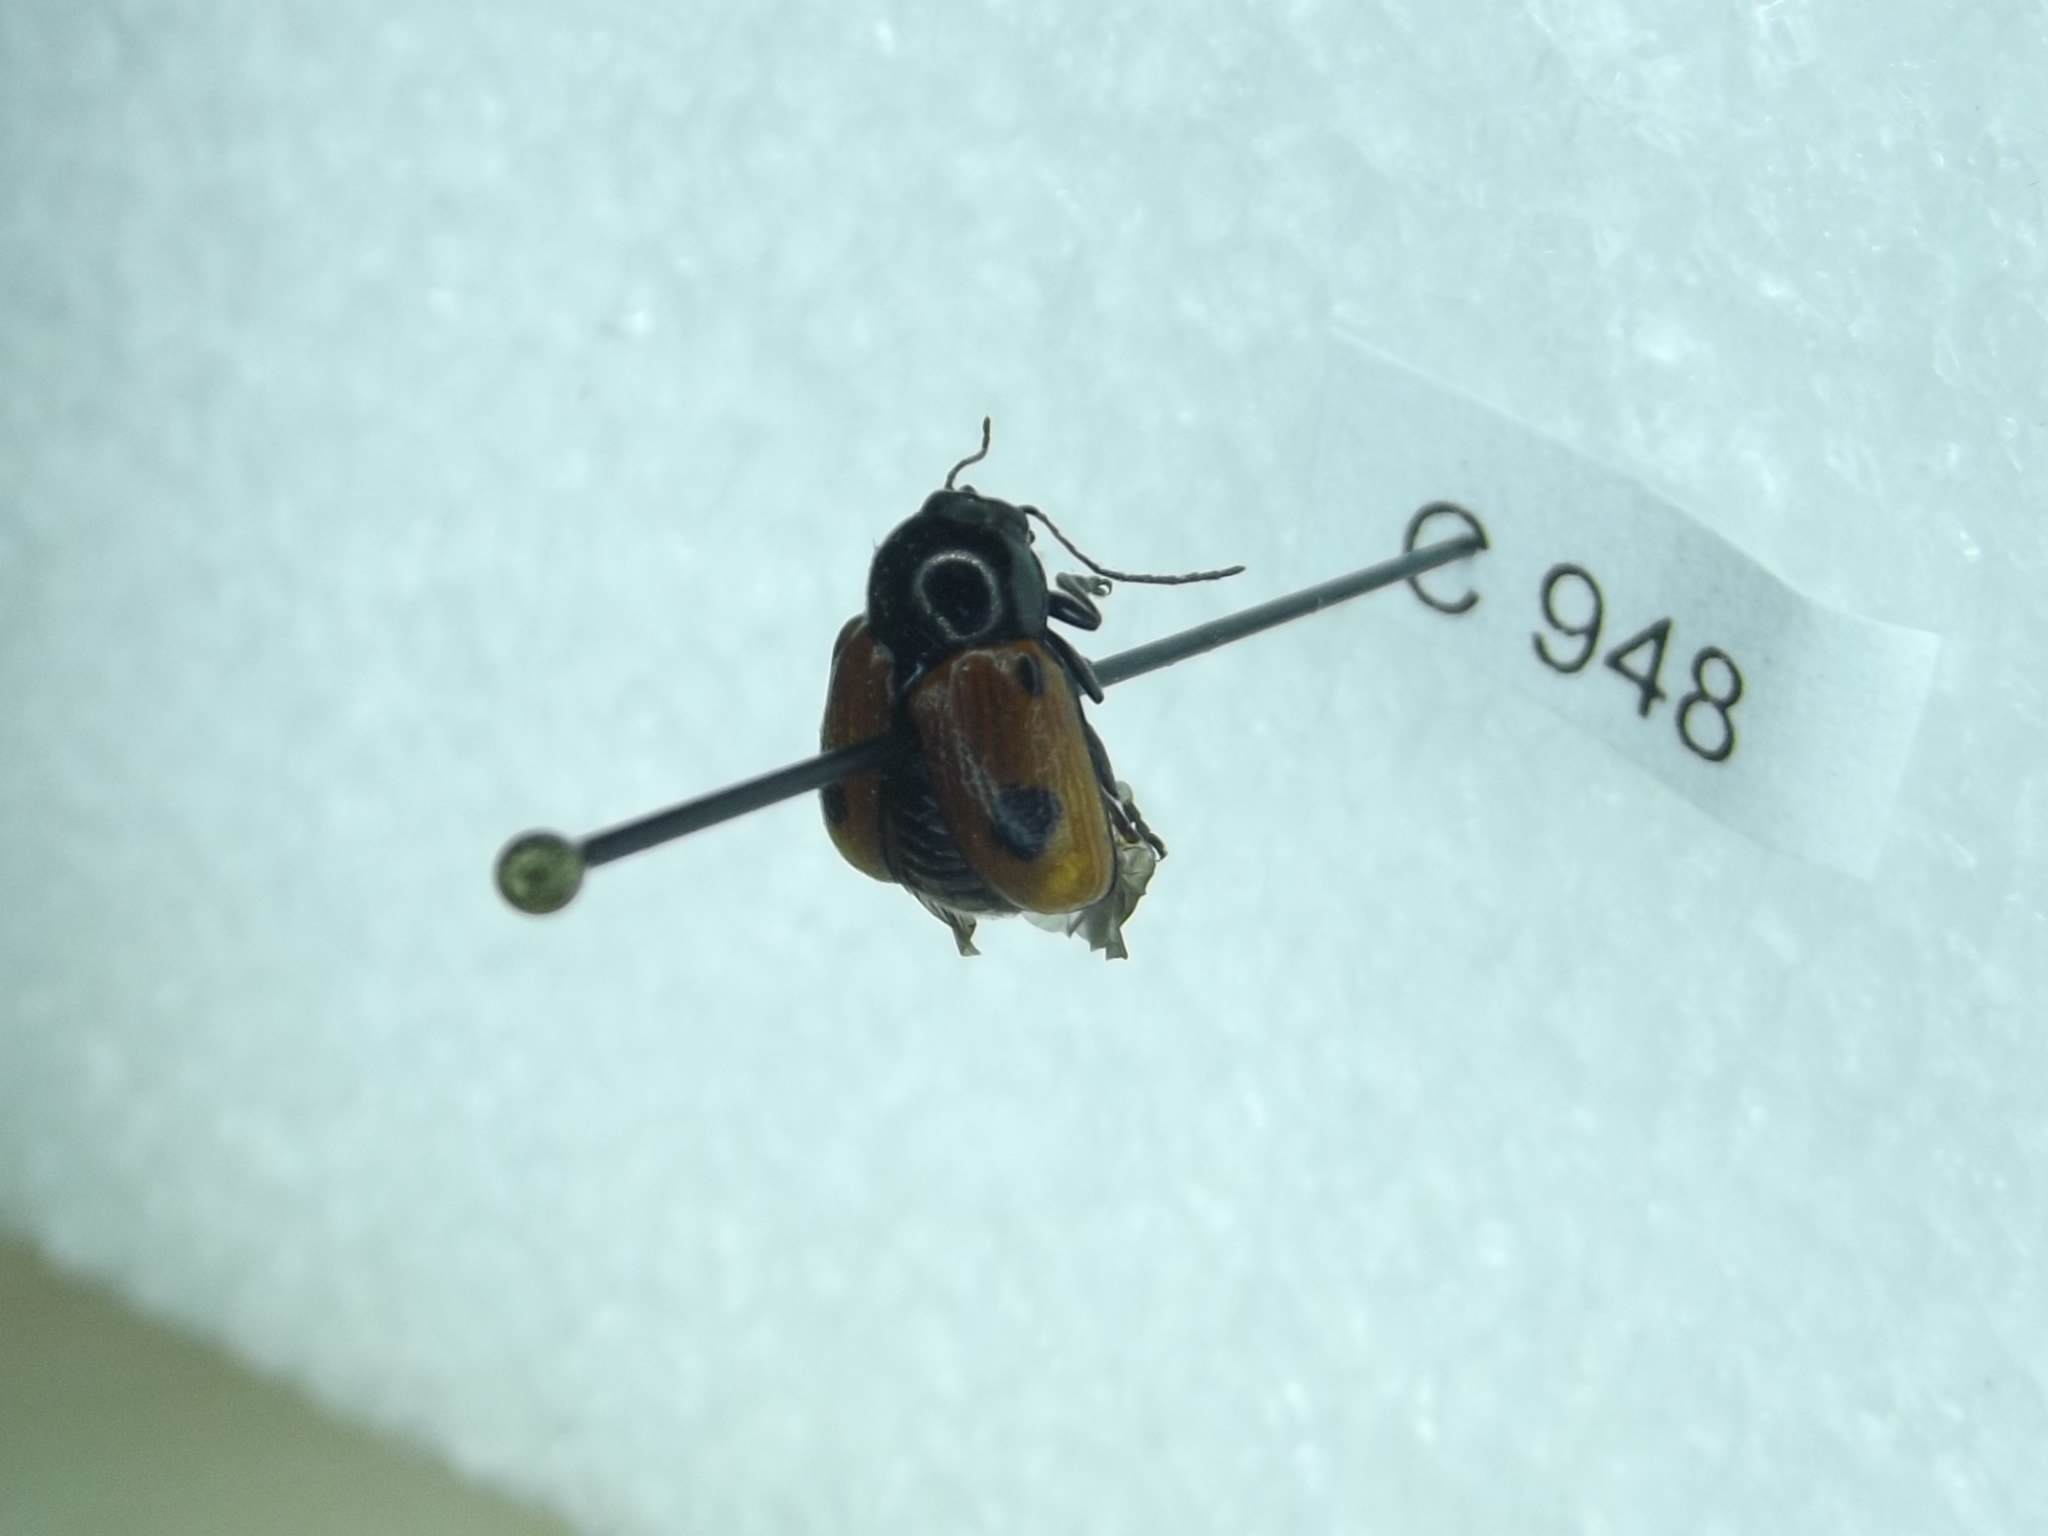Cryptocephalus_bipunctatus: (813, 407, 1253, 970)
